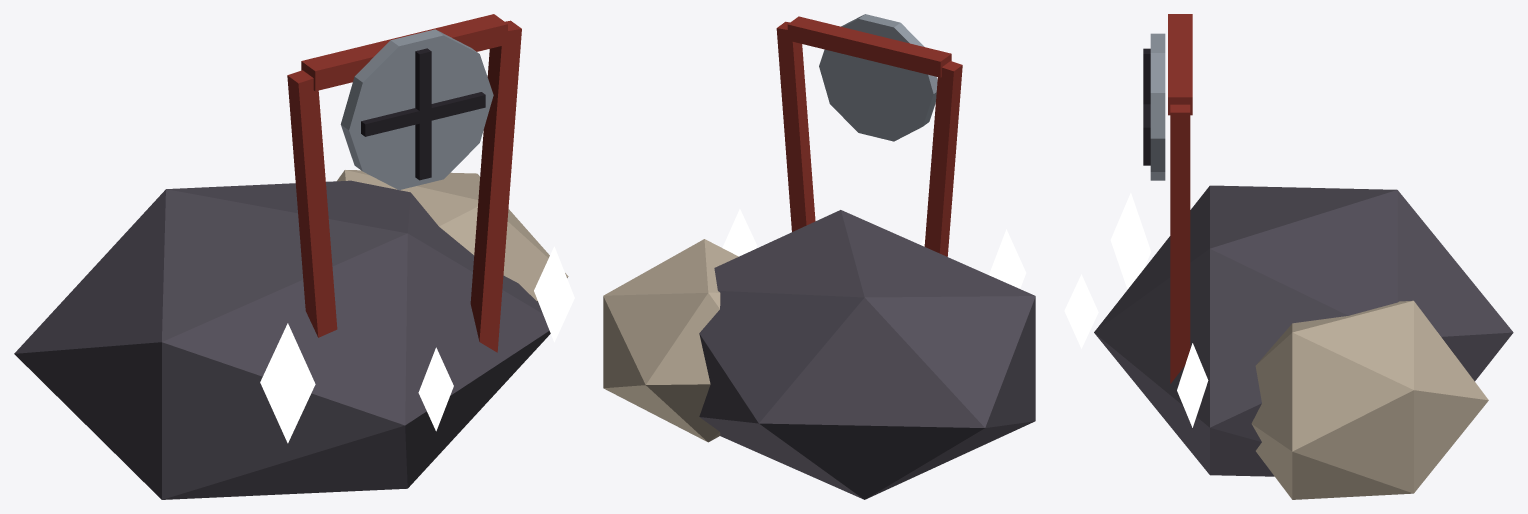
The model's file is mine_t1.glb.
3 views of the same model, side by side, from view 1: azimuth 30°, elevation 25°; view 2: azimuth 150°, elevation 25°; view 3: azimuth 270°, elevation 25° (orthographic). The views are drawn at different scales.
Visible parts, largest first — view 1: body, part_rotor, glow; view 2: body, part_rotor, glow; view 3: body, glow, part_rotor.
Part boxes in pixels (x1,y1,x2,y2): body: (14,14,568,499); part_rotor: (340,29,493,190); glow: (260,246,574,443); body: (603,16,1035,499); part_rotor: (819,14,937,141); glow: (722,209,1026,288); body: (1094,14,1513,499); glow: (1064,193,1208,427); part_rotor: (1143,33,1165,180).
Bounding box in the file's own units: 2.05 × 1.89 × 1.82.
